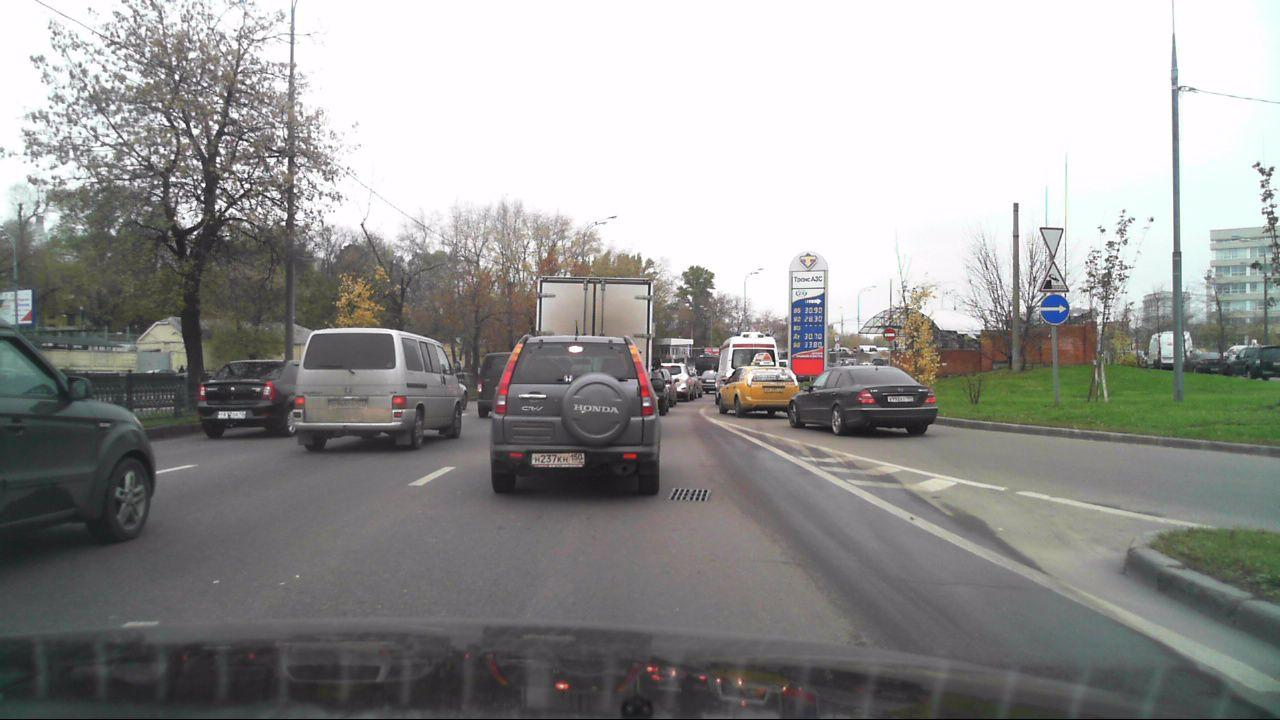1_10: (1037, 261, 1068, 292)
2_4: (1038, 226, 1065, 259)
3_1: (881, 327, 898, 344)
4_2_1: (1039, 294, 1070, 326)
